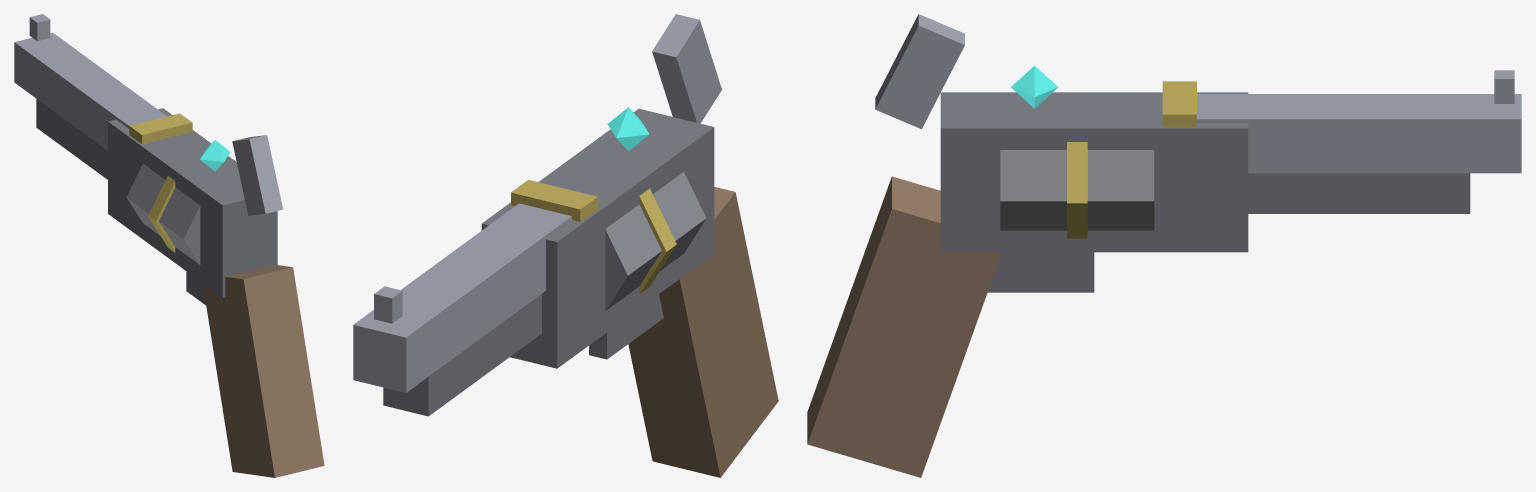
File: revolver.glb
The picture shows the model from 3 angles, left to right: view 1: azimuth 30°, elevation 25°; view 2: azimuth 150°, elevation 25°; view 3: azimuth 270°, elevation 25°; orthographic projection. The views are drawn at different scales.
Parts seen in each view (by area): view 1: mesh_body, mesh_cylinder, mesh_hammer, mesh_gem; view 2: mesh_body, mesh_cylinder, mesh_hammer, mesh_gem; view 3: mesh_body, mesh_cylinder, mesh_hammer, mesh_gem.
Part boxes in pixels (left/top/right/bottom): mesh_body: left=14, top=14, right=324, bottom=477; mesh_cylinder: left=126, top=163, right=200, bottom=264; mesh_hammer: left=232, top=135, right=283, bottom=215; mesh_gem: left=200, top=140, right=230, bottom=171; mesh_body: left=353, top=108, right=778, bottom=477; mesh_cylinder: left=605, top=172, right=706, bottom=310; mesh_hammer: left=652, top=14, right=721, bottom=123; mesh_gem: left=607, top=107, right=649, bottom=151; mesh_body: left=807, top=70, right=1521, bottom=477; mesh_cylinder: left=1000, top=142, right=1154, bottom=238; mesh_hammer: left=875, top=14, right=964, bottom=129; mesh_gem: left=1011, top=65, right=1058, bottom=108.
Bounding box in the file's own units: 0.086 × 0.2854 × 0.418.
